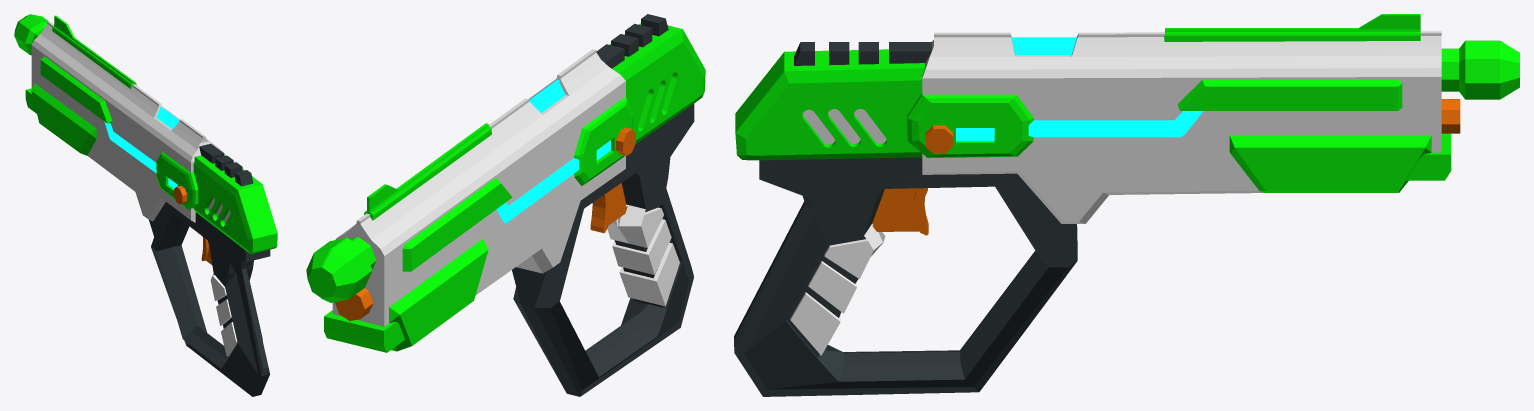
File: ColorGun.fbx
3 renders of one model, left to right at view 1: azimuth 30°, elevation 25°; view 2: azimuth 150°, elevation 25°; view 3: azimuth 270°, elevation 25°, orthographic. The views are drawn at different scales.
Visible parts, largest first — view 1: ColorGun; view 2: ColorGun; view 3: ColorGun.
Boxes of the visible parts, bbox=[...] form: ColorGun: bbox=[14, 14, 277, 396]; ColorGun: bbox=[306, 14, 705, 396]; ColorGun: bbox=[734, 14, 1519, 396].
Bounding box in the file's own units: 334 × 39.38 × 177.
